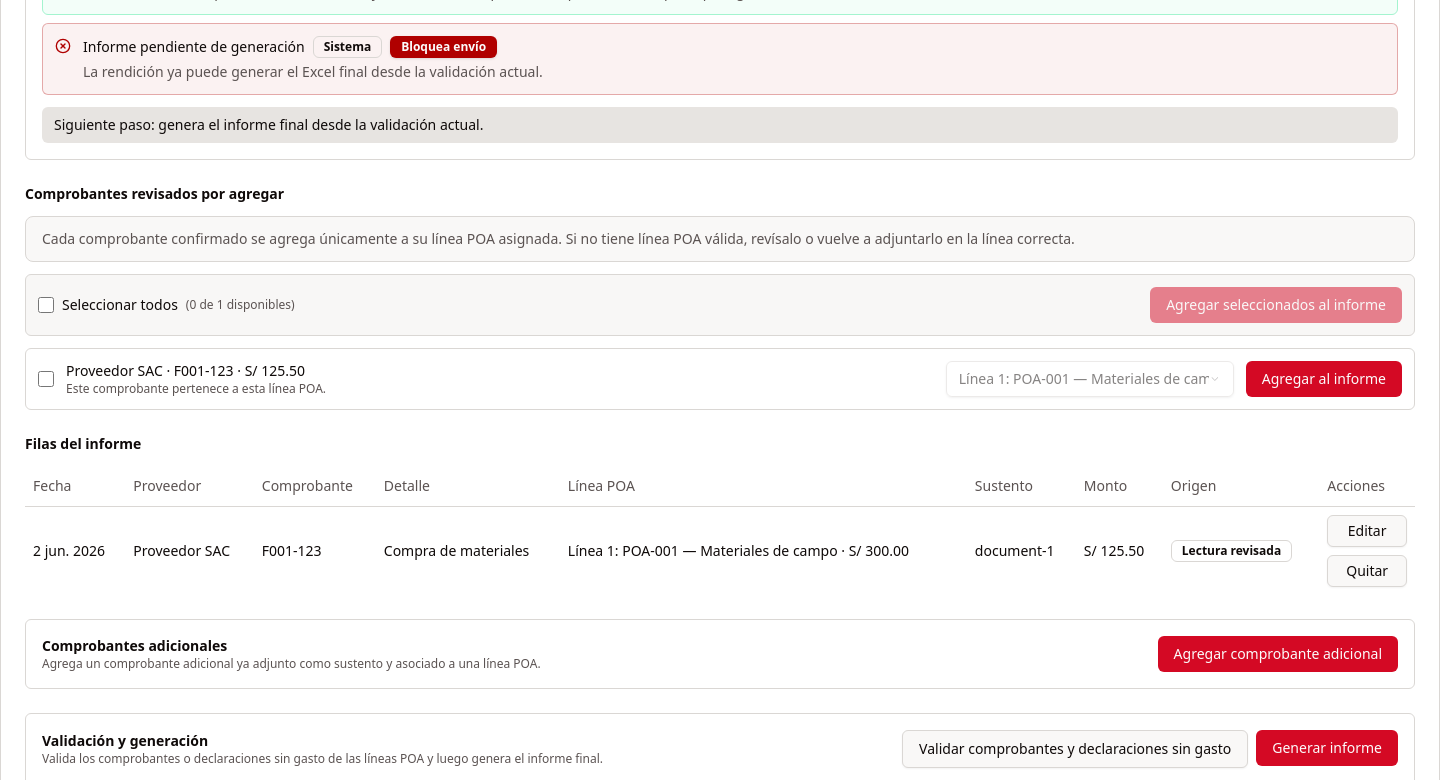
Test: StructuredRenditionReportCard › mantiene el bloqueo desconocido si falla el refetch y ofrece solo Reintentar sincronización
(page scrolled)
Click the checkbox named "Seleccionar Proveedor SAC" at (46, 379), box [38,371,54,387]
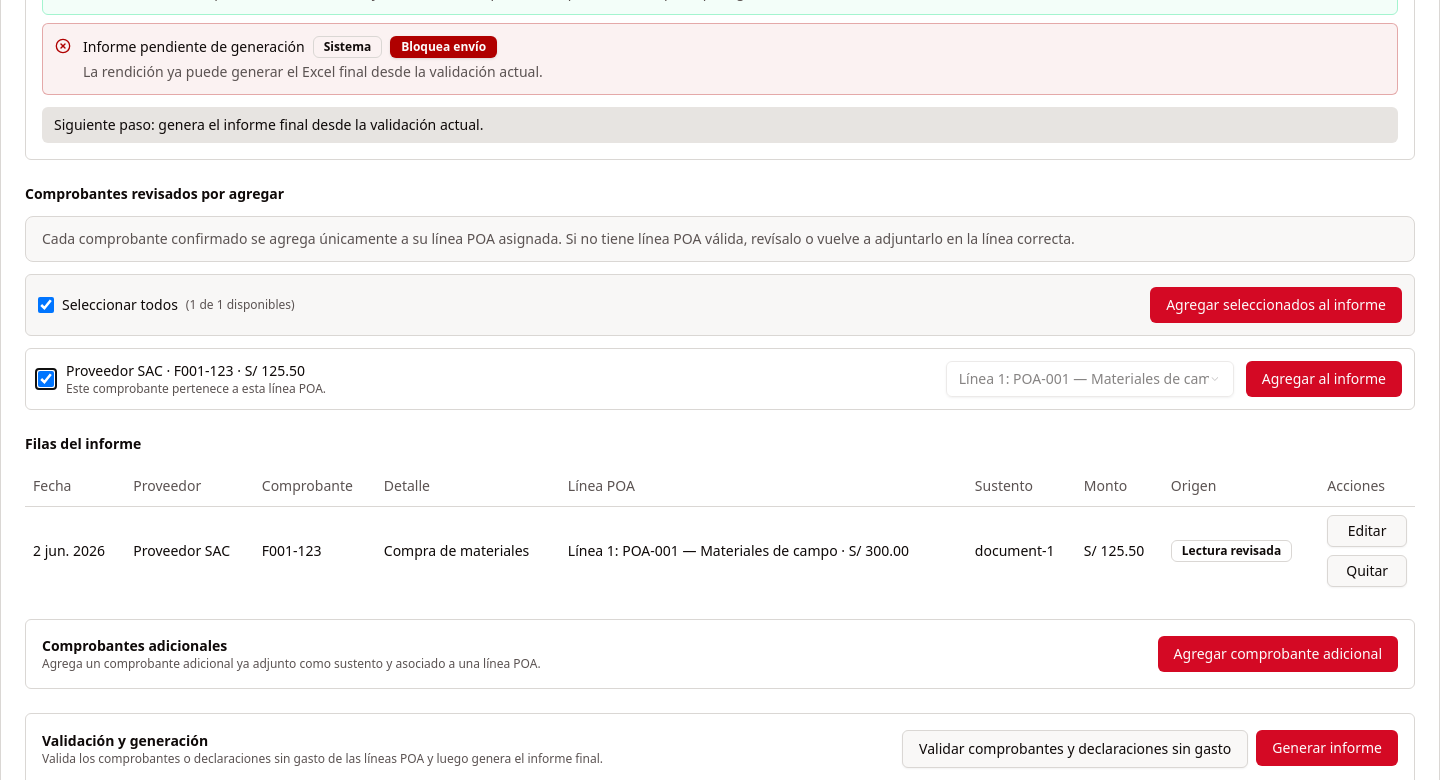
Click the button "Agregar al informe" at (1324, 379), box [1246,361,1402,397]
(page scrolled)
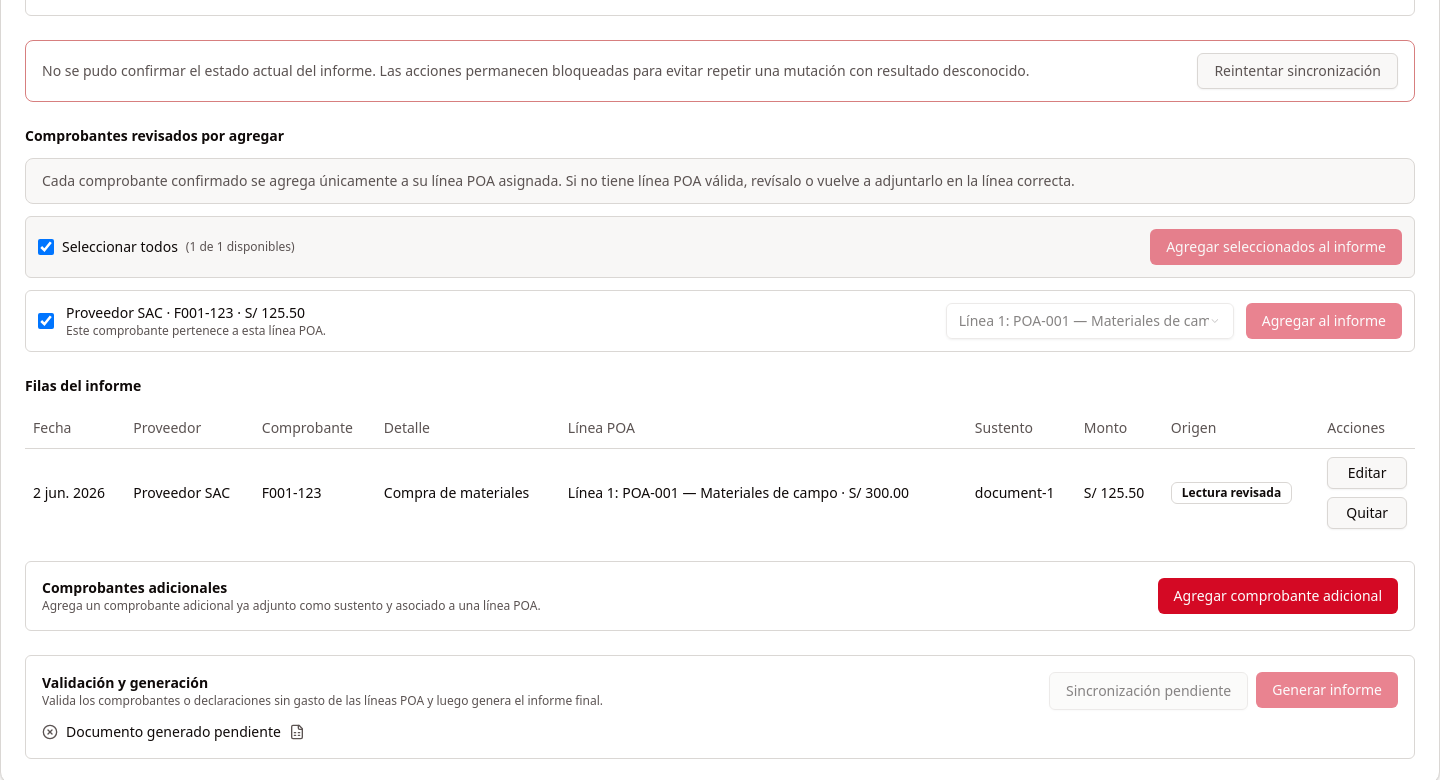
Result: the button "Reintentar sincronización" is enabled at [1197,53,1398,89]
Result: the button "Agregar al informe" is disabled at [1246,303,1402,339]
Result: the button "Agregar seleccionados al informe" is disabled at [1150,229,1402,265]
